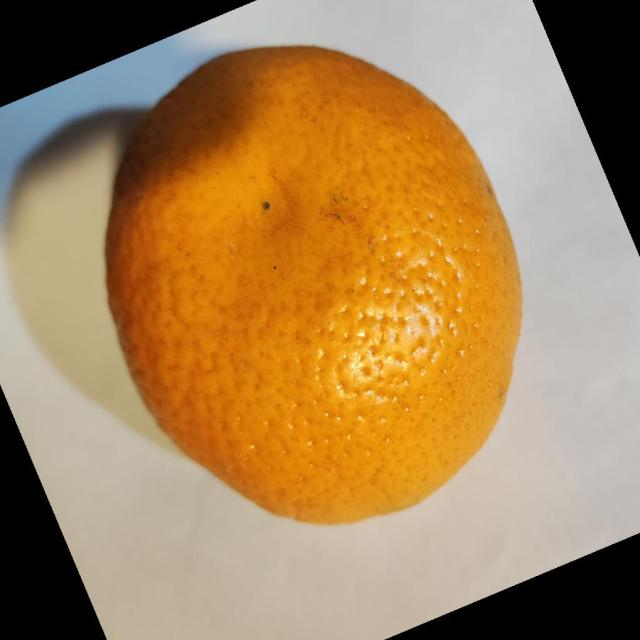fresh orange: (103, 43, 523, 526)
